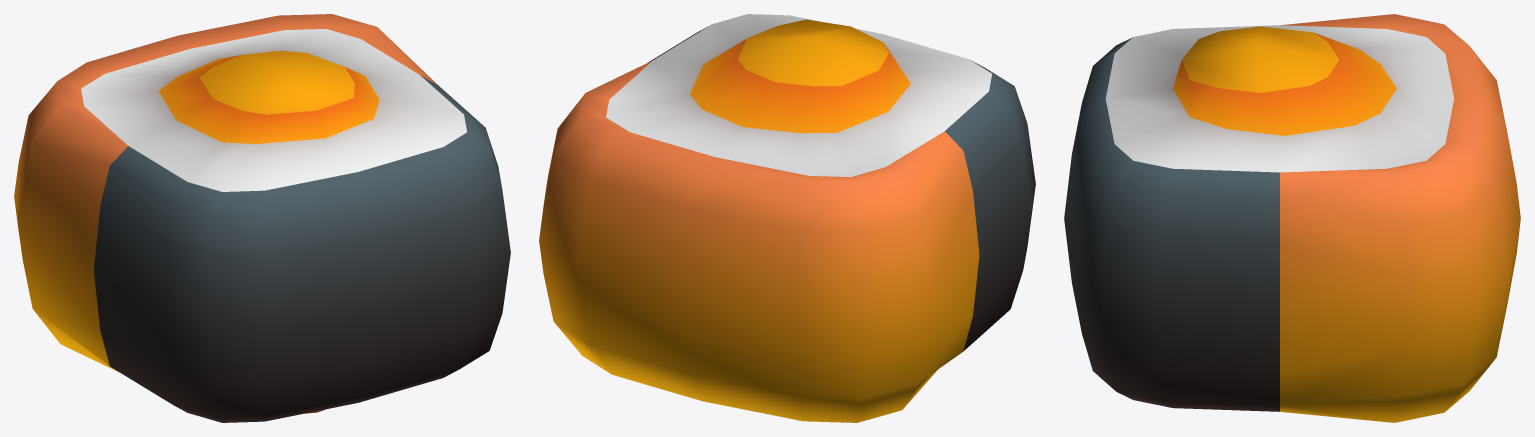
Rendered from roll_007.fbx.
3 views of the same model, side by side, from view 1: azimuth 30°, elevation 25°; view 2: azimuth 150°, elevation 25°; view 3: azimuth 270°, elevation 25° (orthographic). The views are drawn at different scales.
Parts seen in each view (by area): view 1: roll_007; view 2: roll_007; view 3: roll_007.
Boxes of the visible parts, left/top/right/bottom form: roll_007: left=14, top=14, right=510, bottom=422; roll_007: left=539, top=14, right=1035, bottom=422; roll_007: left=1064, top=14, right=1520, bottom=422.
Size of the model in its own units: 4.74 by 4.71 by 3.92.
